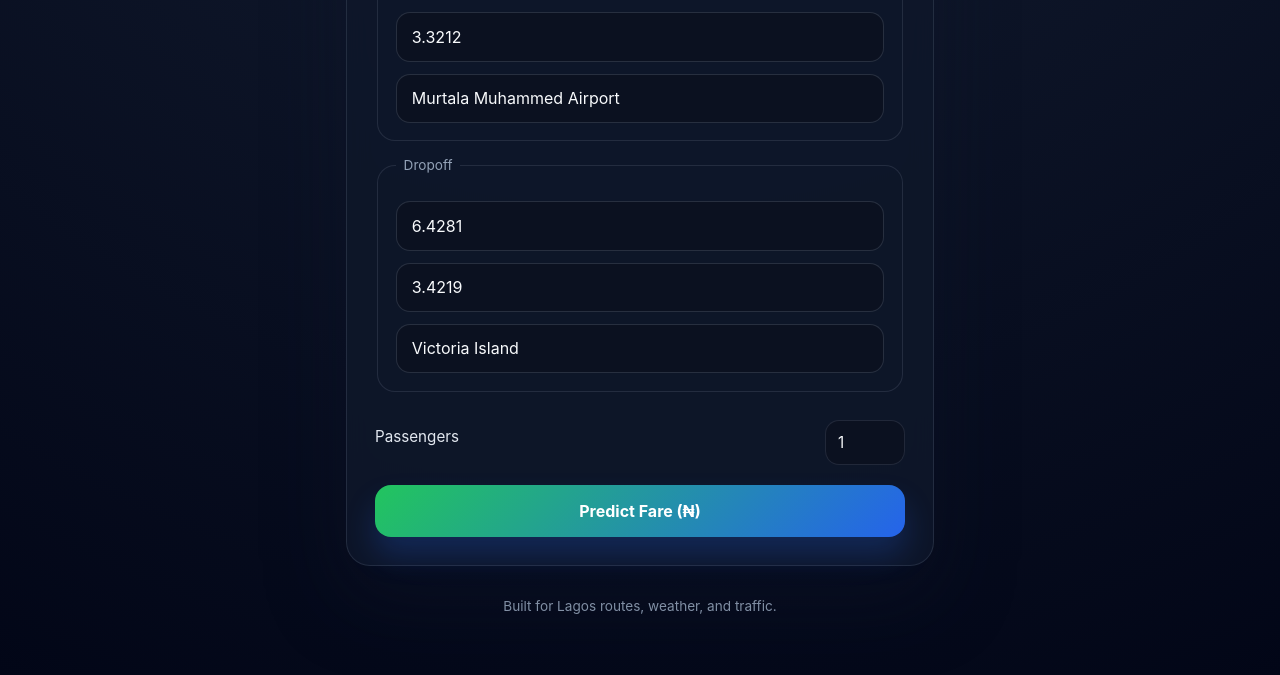
App integration › displays error alert when API returns 400
The image size is (1280, 675).
(page scrolled)
Click the button "Predict Fare (₦)". click: {"x": 640, "y": 510}
box: top-left (375, 484), bottom-right (905, 536)
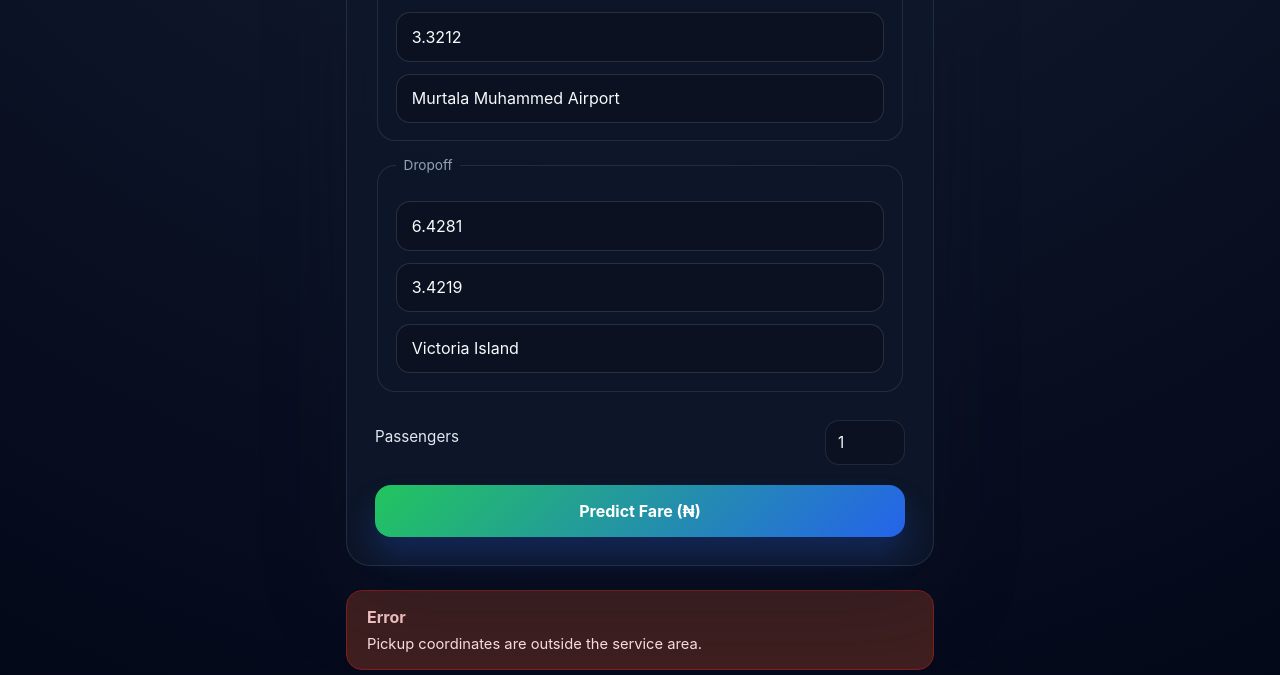
Check: the message "Error Pickup coordinates are outside the service area." is shown, box top-left (346, 590), bottom-right (934, 670)
Check: the text "Pickup coordinates are outside the service area." is shown, box top-left (367, 634), bottom-right (702, 652)
